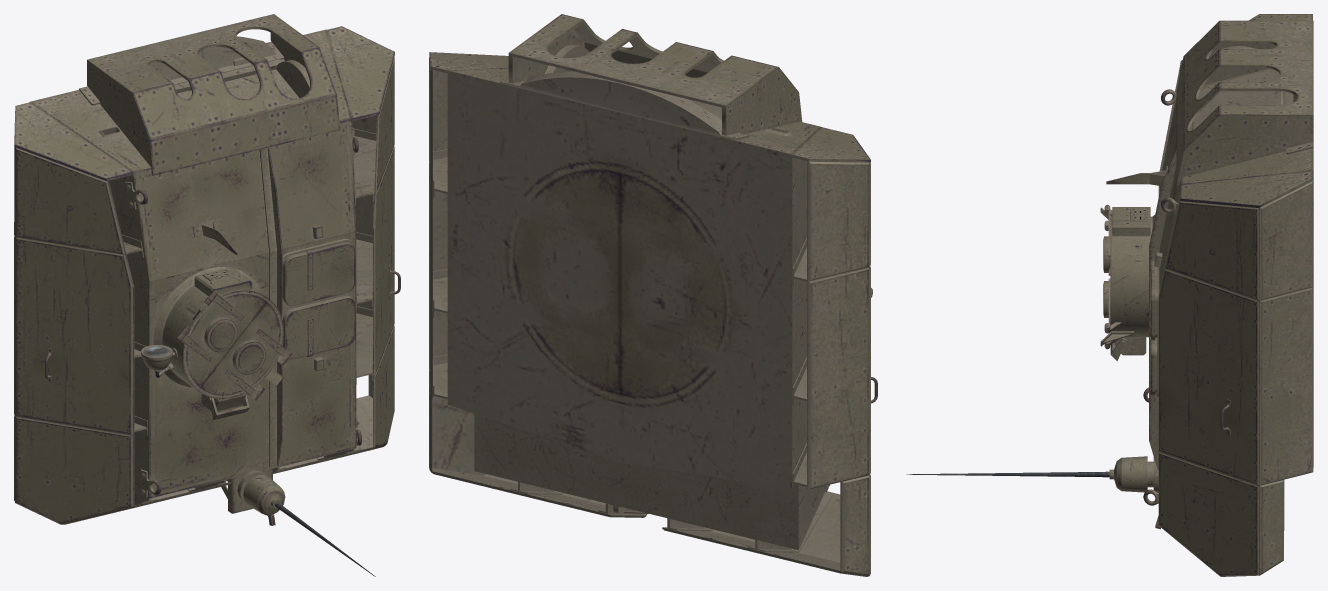
File: Turret_01.glb
3 views of the same model, side by side, from view 1: azimuth 30°, elevation 25°; view 2: azimuth 150°, elevation 25°; view 3: azimuth 270°, elevation 25° (orthographic). The views are drawn at different scales.
Parts seen in each view (by area): view 1: set_0_group_0; view 2: set_0_group_0; view 3: set_0_group_0.
Part boxes in pixels (left/top/right/bottom): set_0_group_0: left=14, top=14, right=400, bottom=576; set_0_group_0: left=429, top=14, right=877, bottom=576; set_0_group_0: left=906, top=14, right=1313, bottom=576.
Bounding box in the file's own units: 2.06 × 2.26 × 1.85.
Materials: 1 (1 with a texture image).
